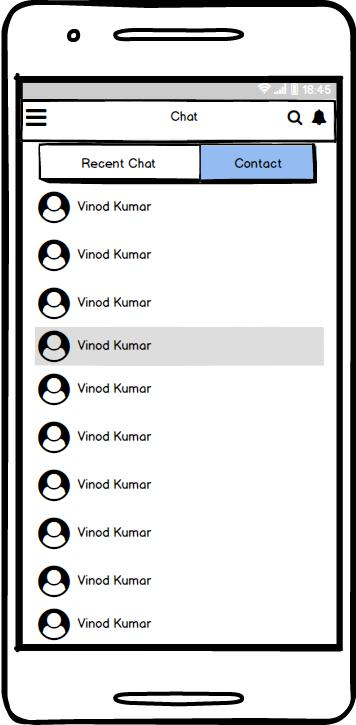Icon: (38, 565, 71, 598), (38, 421, 71, 454), (38, 192, 72, 224), (38, 331, 72, 363), (39, 239, 71, 272), (38, 374, 71, 406), (38, 609, 71, 640), (39, 288, 72, 319), (39, 517, 70, 549), (39, 470, 71, 501), (27, 109, 48, 127), (287, 111, 303, 127), (312, 110, 327, 126)
Text: (77, 382, 153, 394), (78, 430, 153, 442), (78, 248, 152, 260), (78, 296, 152, 308), (78, 478, 152, 490), (78, 617, 152, 629), (78, 526, 151, 538), (77, 201, 153, 212), (78, 574, 153, 585), (78, 340, 152, 350), (171, 111, 199, 123)
TextButton: (39, 143, 199, 182), (200, 143, 317, 183)
